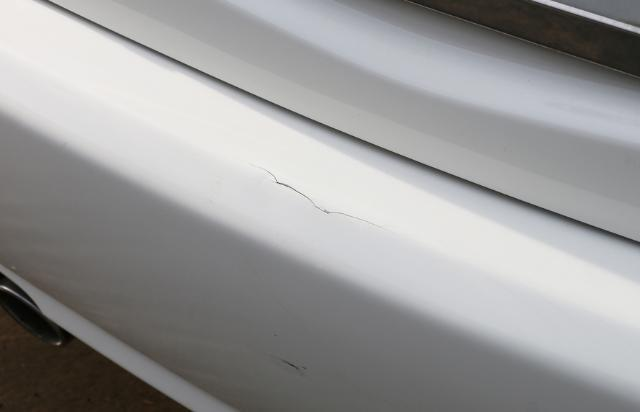Bumper: (222, 143, 400, 409)
